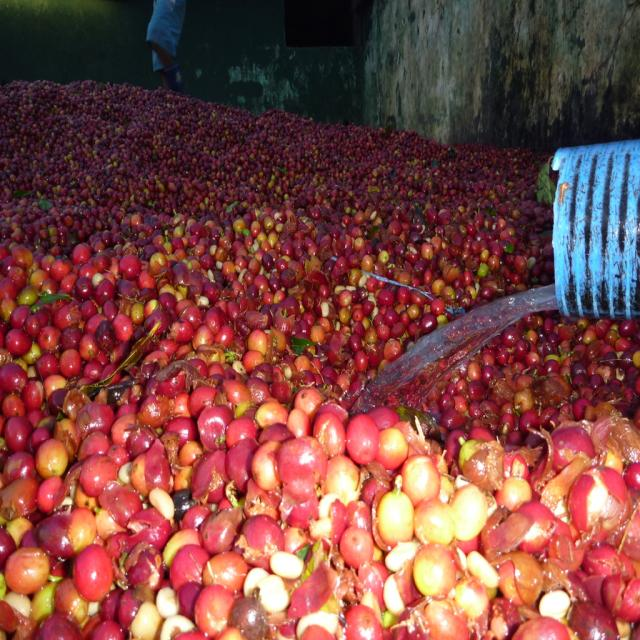Healty Apple: (0, 75, 640, 640), (64, 555, 116, 619)
